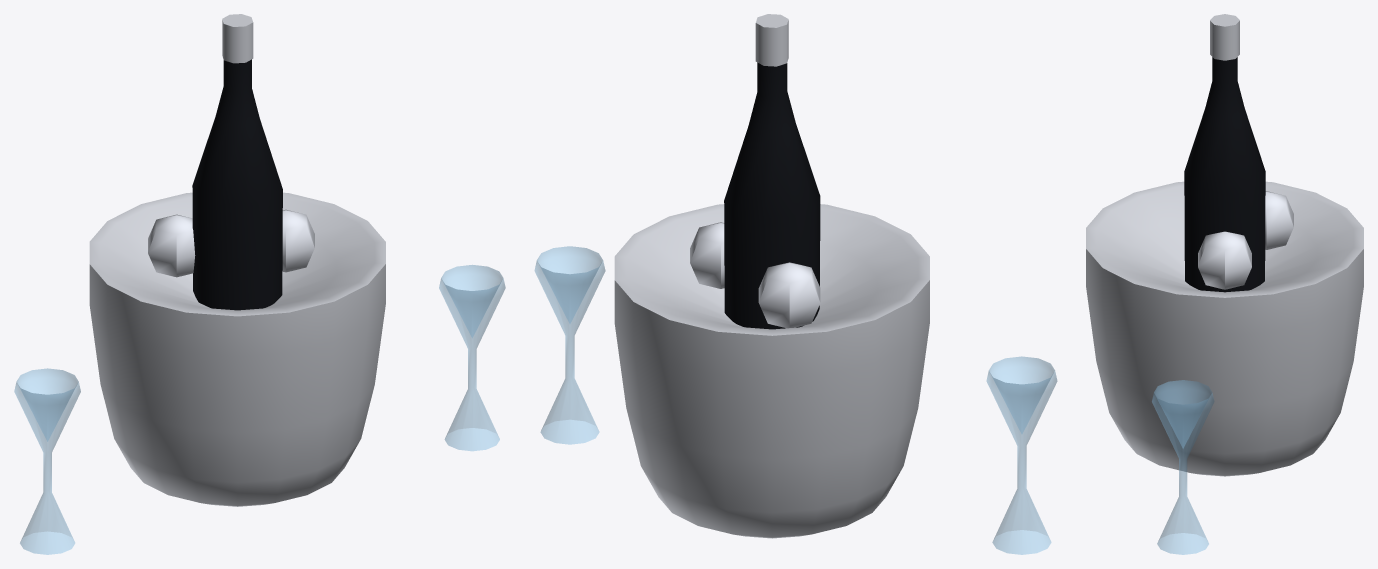
The model's file is champagne_bucket.glb.
3 renders of one model, left to right at view 1: azimuth 30°, elevation 25°; view 2: azimuth 150°, elevation 25°; view 3: azimuth 270°, elevation 25°, orthographic. The views are drawn at different scales.
Visible parts, largest first — view 1: champagne_bucket; view 2: champagne_bucket; view 3: champagne_bucket.
Boxes of the visible parts, x1,y1,x2,y2 form: champagne_bucket: (14,14,505,554); champagne_bucket: (534,14,1057,554); champagne_bucket: (1086,14,1363,554).
Size of the model in its own units: 0.5 by 0.45 by 0.2659.
